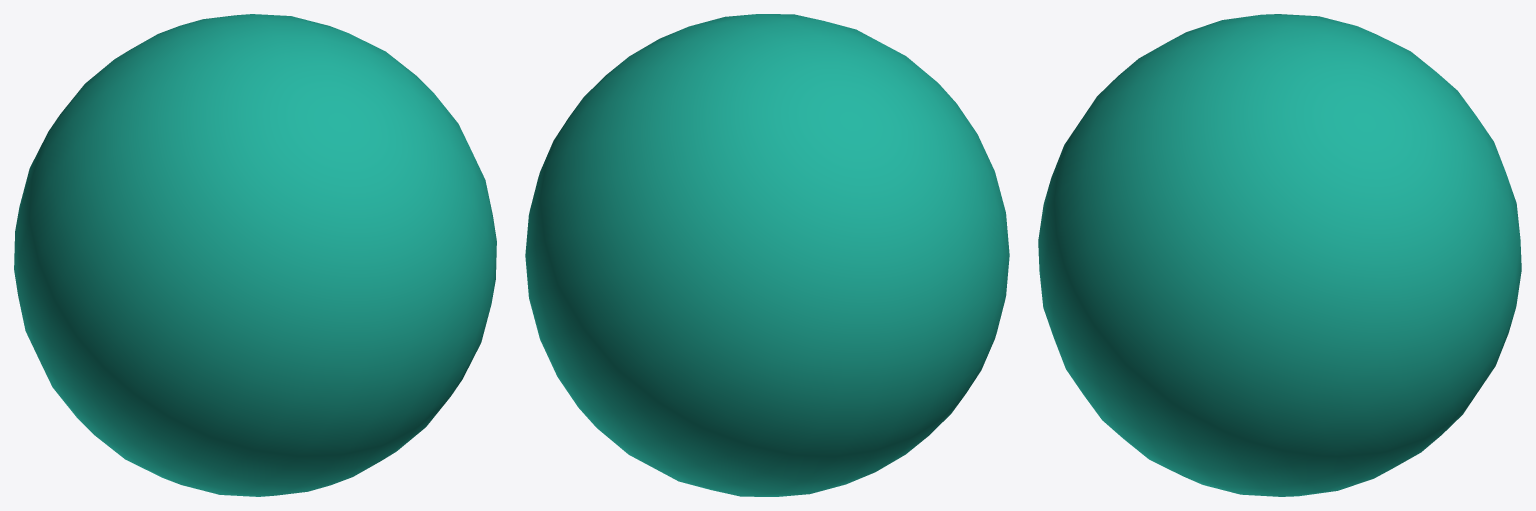
File: ball_wand.obj
The picture shows the model from 3 angles, left to right: view 1: azimuth 30°, elevation 25°; view 2: azimuth 150°, elevation 25°; view 3: azimuth 270°, elevation 25°; orthographic projection.
Visible parts, largest first — view 1: Moon_Cube.006; view 2: Moon_Cube.006; view 3: Moon_Cube.006.
Boxes of the visible parts, x1,y1,x2,y2 form: Moon_Cube.006: [14, 14, 496, 496]; Moon_Cube.006: [525, 14, 1009, 496]; Moon_Cube.006: [1038, 14, 1521, 496].
Size of the model in its own units: 0.7846 by 0.7828 by 0.7834.
